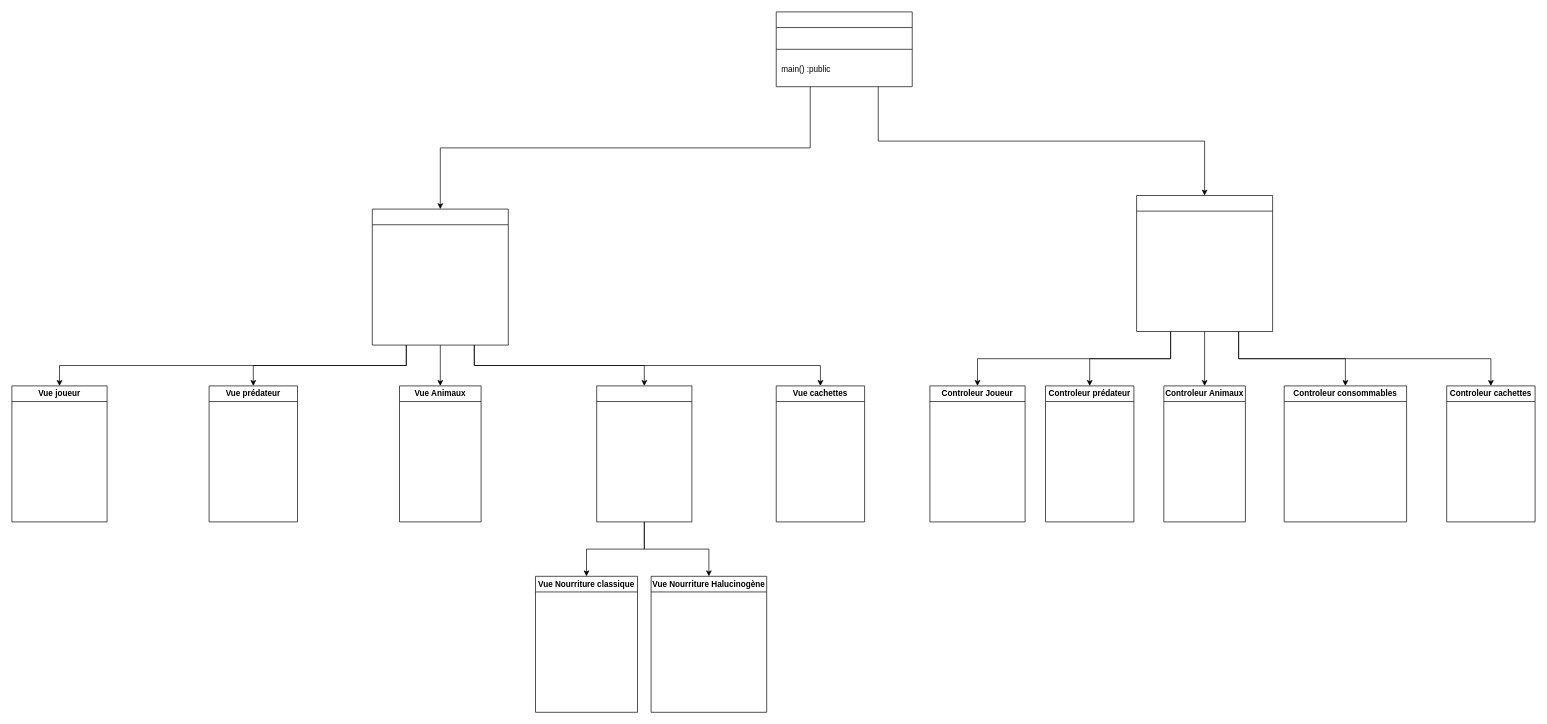
The diagram is 1547 pixels wide and 724 high, and some of its shapes have lost their labels. Here are the shapes that lost their labels. From the top down, the box of each, then its label:
(776, 11, 912, 87): Cataclysm
(372, 208, 508, 345): Vue Jeu
(1136, 195, 1273, 332): Controleur Jeu
(596, 385, 692, 522): Vue consommables
